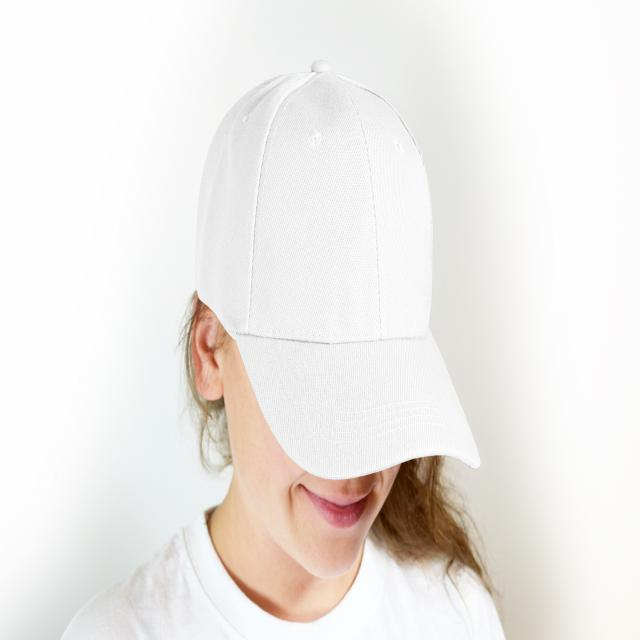Cap: (173, 53, 485, 477)
